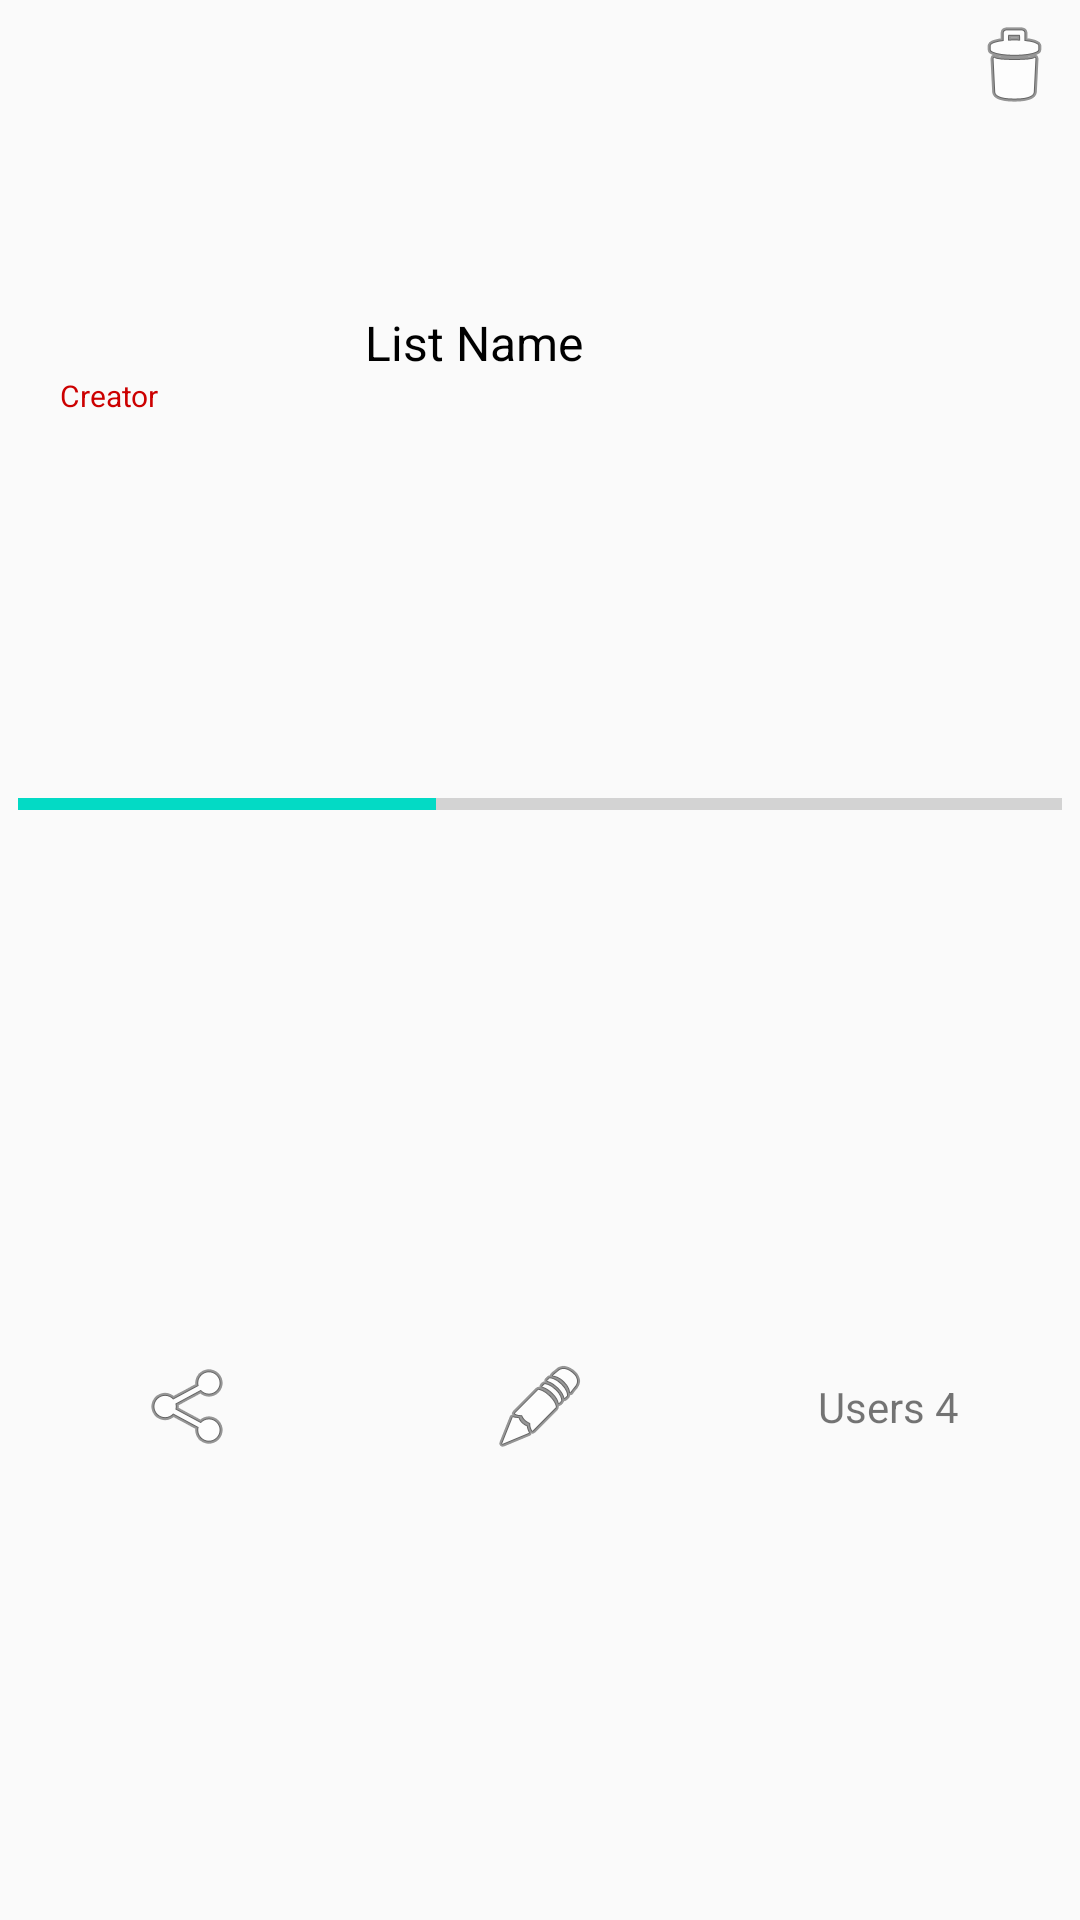

Icons on this 1080px×1920px Android screen, each with its box as (x1, y1, x2, y2):
delete: (987, 27, 1042, 102)
edit: (499, 1366, 580, 1447)
share: (151, 1369, 223, 1444)
